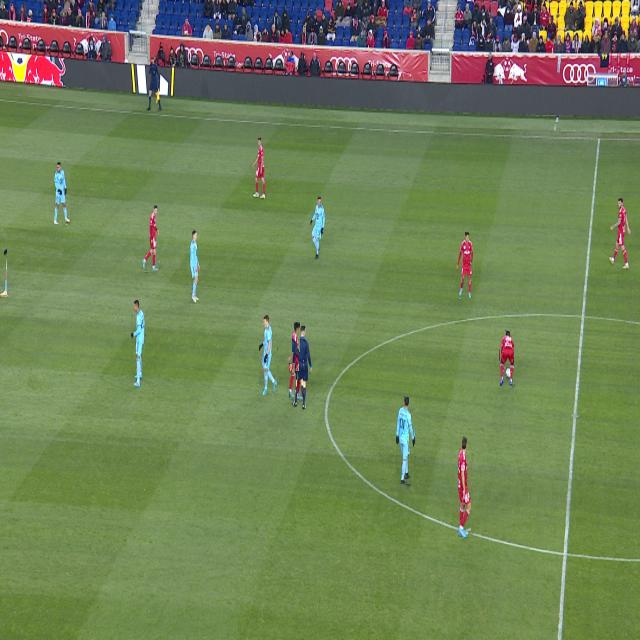football: (503, 368, 509, 378)
player: (609, 199, 631, 269), (397, 397, 414, 484), (259, 315, 277, 395), (458, 438, 471, 537), (131, 301, 145, 386), (457, 232, 473, 298), (143, 206, 159, 271), (54, 162, 70, 224), (310, 197, 325, 256), (500, 331, 514, 386), (253, 137, 265, 198), (190, 230, 200, 302), (0, 256, 7, 296), (292, 323, 300, 352), (297, 371, 303, 400), (290, 364, 295, 398), (294, 351, 299, 373), (4, 249, 7, 255)
referee: (292, 326, 312, 408)
